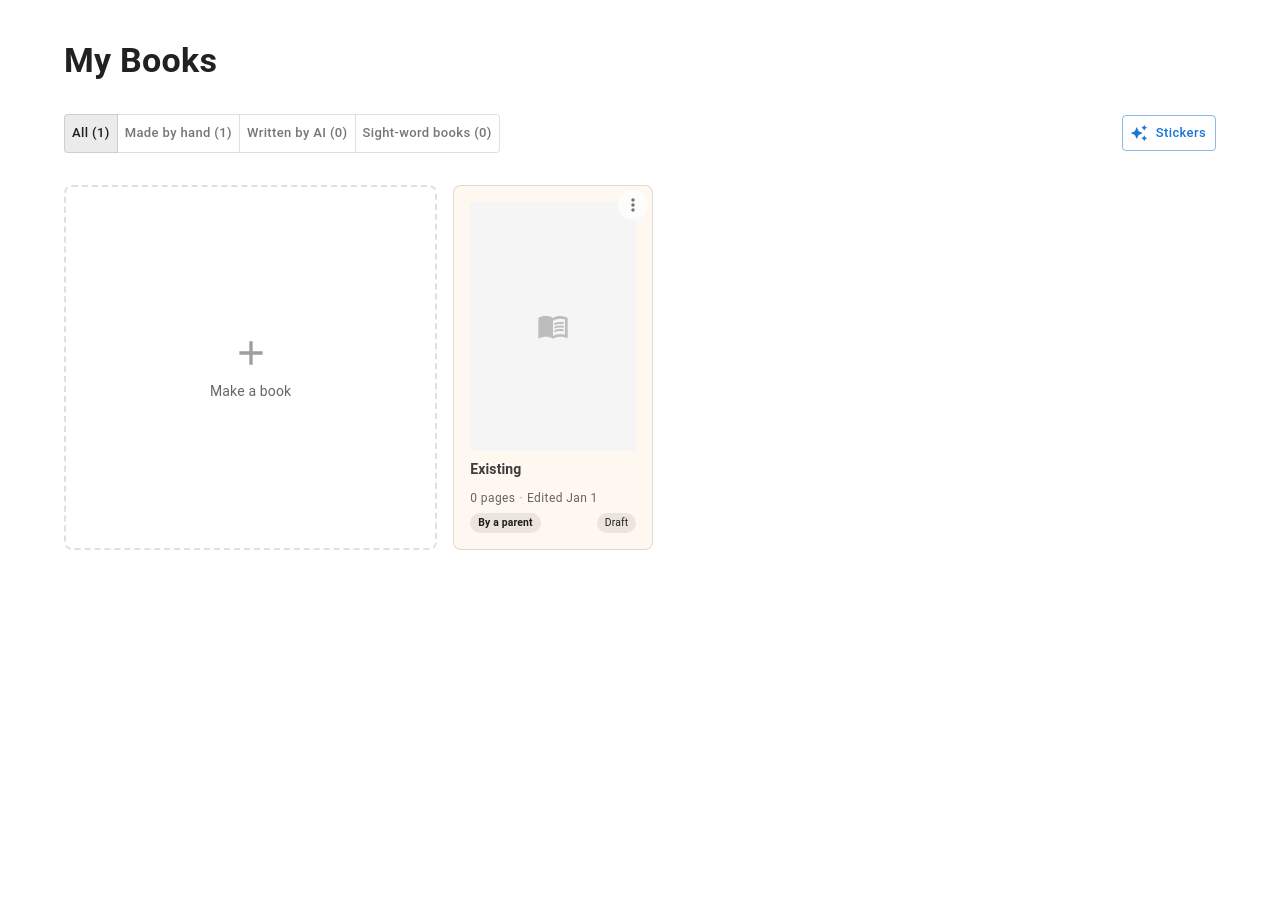
it: the one "Make a book" door — both audiences see two choices › shows the kid wording to a kid — on capability, never a name
Step 1. Click the element with test id "new-book-tile" → [251, 367], box [64, 185, 437, 550]
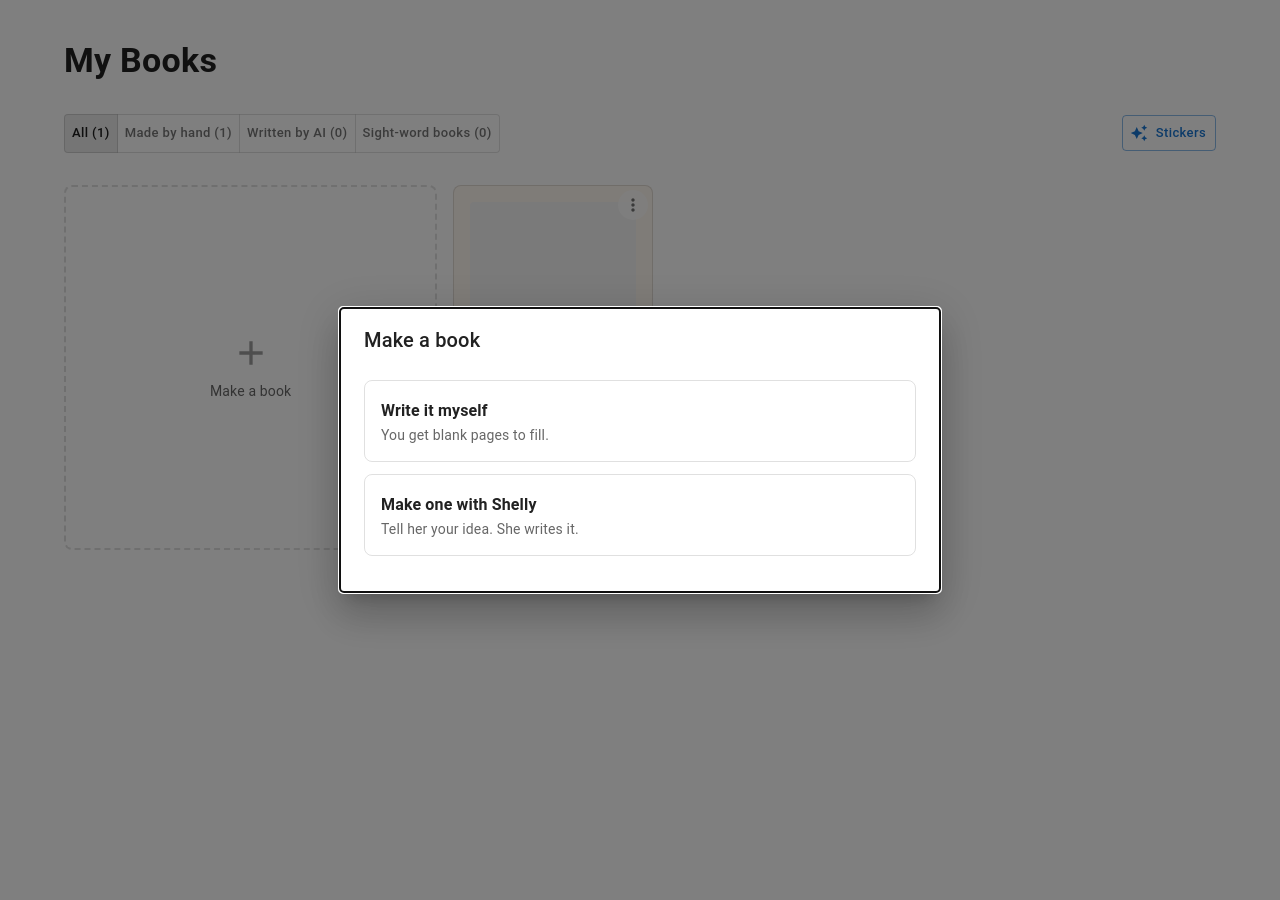
Result: the heading "Write it myself" is shown at [381, 401, 488, 420]
Result: the text "You get blank pages to fill." is shown at [381, 427, 549, 443]
Result: the heading "Make one with Shelly" is shown at [381, 495, 537, 514]
